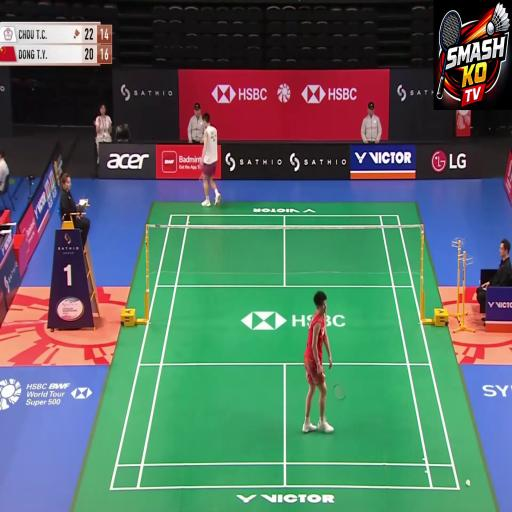player: (194, 96, 248, 250), (299, 304, 342, 443)
